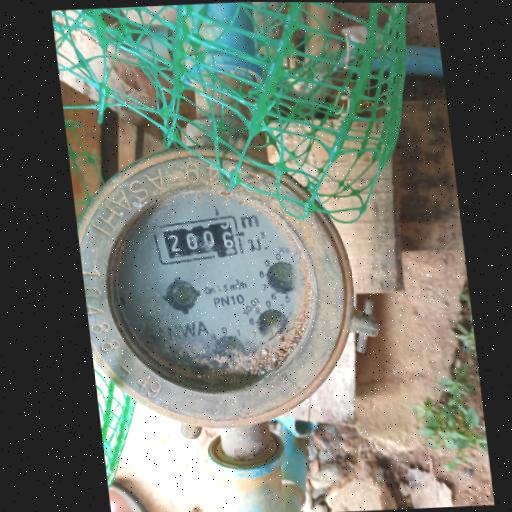0: (181, 225, 205, 255), (198, 224, 217, 254)
2: (163, 228, 188, 259)
6: (210, 220, 238, 258)
border_water_meter_number: (150, 214, 244, 267)
